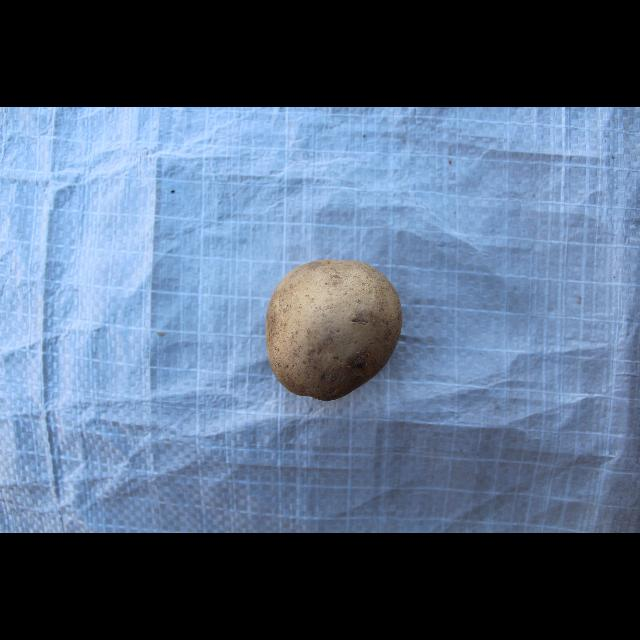Diseased-fungal potato: (257, 260, 409, 398)
